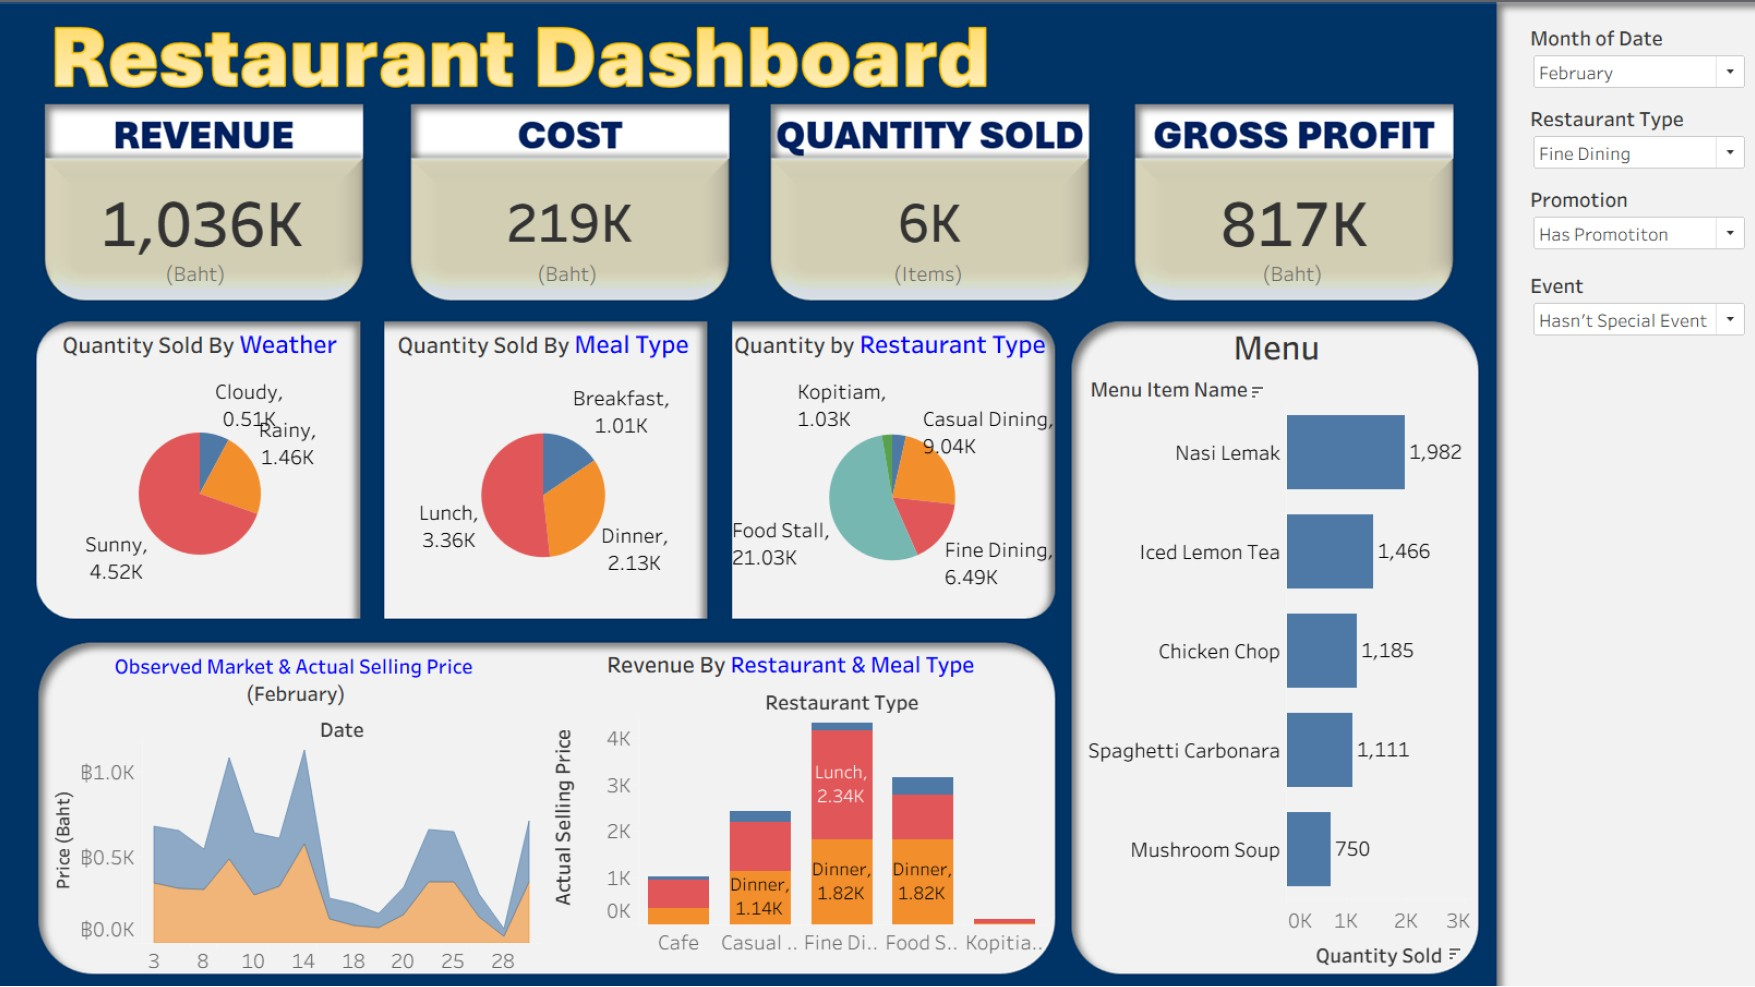

Layout of this report page (visuals, bound fields, positions):
{"tool":"tableau","page":{"name":"Restaurant Dashboard","canvas":[1600,900],"ordinal":0},"visuals":[{"type":"filter","title":"Area Chart","param":"[federated.1c24y321jutpsm1cefvfe1574qxd].[mn:date:ok]","box":[1380,16,200,62]},{"type":"filter","title":"Area Chart","param":"[federated.1c24y321jutpsm1cefvfe1574qxd].[none:restaurant_type:nk]","box":[1380,90,200,62]},{"type":"worksheet","title":"Revenue","mark":"Automatic","box":[20,140,285,115]},{"type":"worksheet","title":"Cost","mark":"Automatic","box":[357,140,285,115]},{"type":"worksheet","title":"Quantity Sold","mark":"Automatic","box":[687,140,285,115]},{"type":"worksheet","title":"Gross Profit","mark":"Automatic","box":[1021,140,285,115]},{"type":"filter","title":"Area Chart","param":"[federated.1c24y321jutpsm1cefvfe1574qxd].[none:Calculation_1992279900042592261:n","box":[1380,164,200,86]},{"type":"text","box":[106,230,100,30]},{"type":"text","box":[447,230,100,30]},{"type":"text","box":[778,230,100,30]},{"type":"text","box":[1112,230,100,30]},{"type":"filter","title":"Area Chart","param":"[federated.1c24y321jutpsm1cefvfe1574qxd].[none:Promotion (copy)_1992279900043505","box":[1380,243,200,72]},{"type":"worksheet","title":"Menu","mark":"Automatic","rows":["menu_item_name"],"cols":["quantity_sold"],"box":[968,287,359,602]},{"type":"worksheet","title":"Meal Type","mark":"Pie","box":[265,290,420,272]},{"type":"worksheet","title":"Restaurant Type","mark":"Pie","box":[646,290,298,276]},{"type":"worksheet","title":"Sheet 11","mark":"Automatic","rows":["actual_selling_price"],"cols":["restaurant_type"],"box":[473,585,462,297]},{"type":"worksheet","title":"Area Chart","mark":"Area","cols":["date"],"box":[23,588,450,300]}]}

Visuals, with their boxes in screenshot pixels (x1, y1, x2, y2), scaled from the page's 1600x900 canvas onto the 1755x987 screenshot:
"Area Chart" filter: box=[1514, 18, 1733, 86]
"Area Chart" filter: box=[1514, 99, 1733, 167]
"Revenue" worksheet: box=[22, 154, 335, 280]
"Cost" worksheet: box=[392, 154, 704, 280]
"Quantity Sold" worksheet: box=[754, 154, 1066, 280]
"Gross Profit" worksheet: box=[1120, 154, 1433, 280]
"Area Chart" filter: box=[1514, 180, 1733, 274]
text: box=[116, 252, 226, 285]
text: box=[490, 252, 600, 285]
text: box=[853, 252, 963, 285]
text: box=[1220, 252, 1329, 285]
"Area Chart" filter: box=[1514, 266, 1733, 345]
"Menu" worksheet: box=[1062, 315, 1456, 975]
"Meal Type" worksheet (Pie marks): box=[291, 318, 751, 616]
"Restaurant Type" worksheet (Pie marks): box=[709, 318, 1035, 621]
"Sheet 11" worksheet: box=[519, 642, 1026, 967]
"Area Chart" worksheet (Area marks): box=[25, 645, 519, 974]
